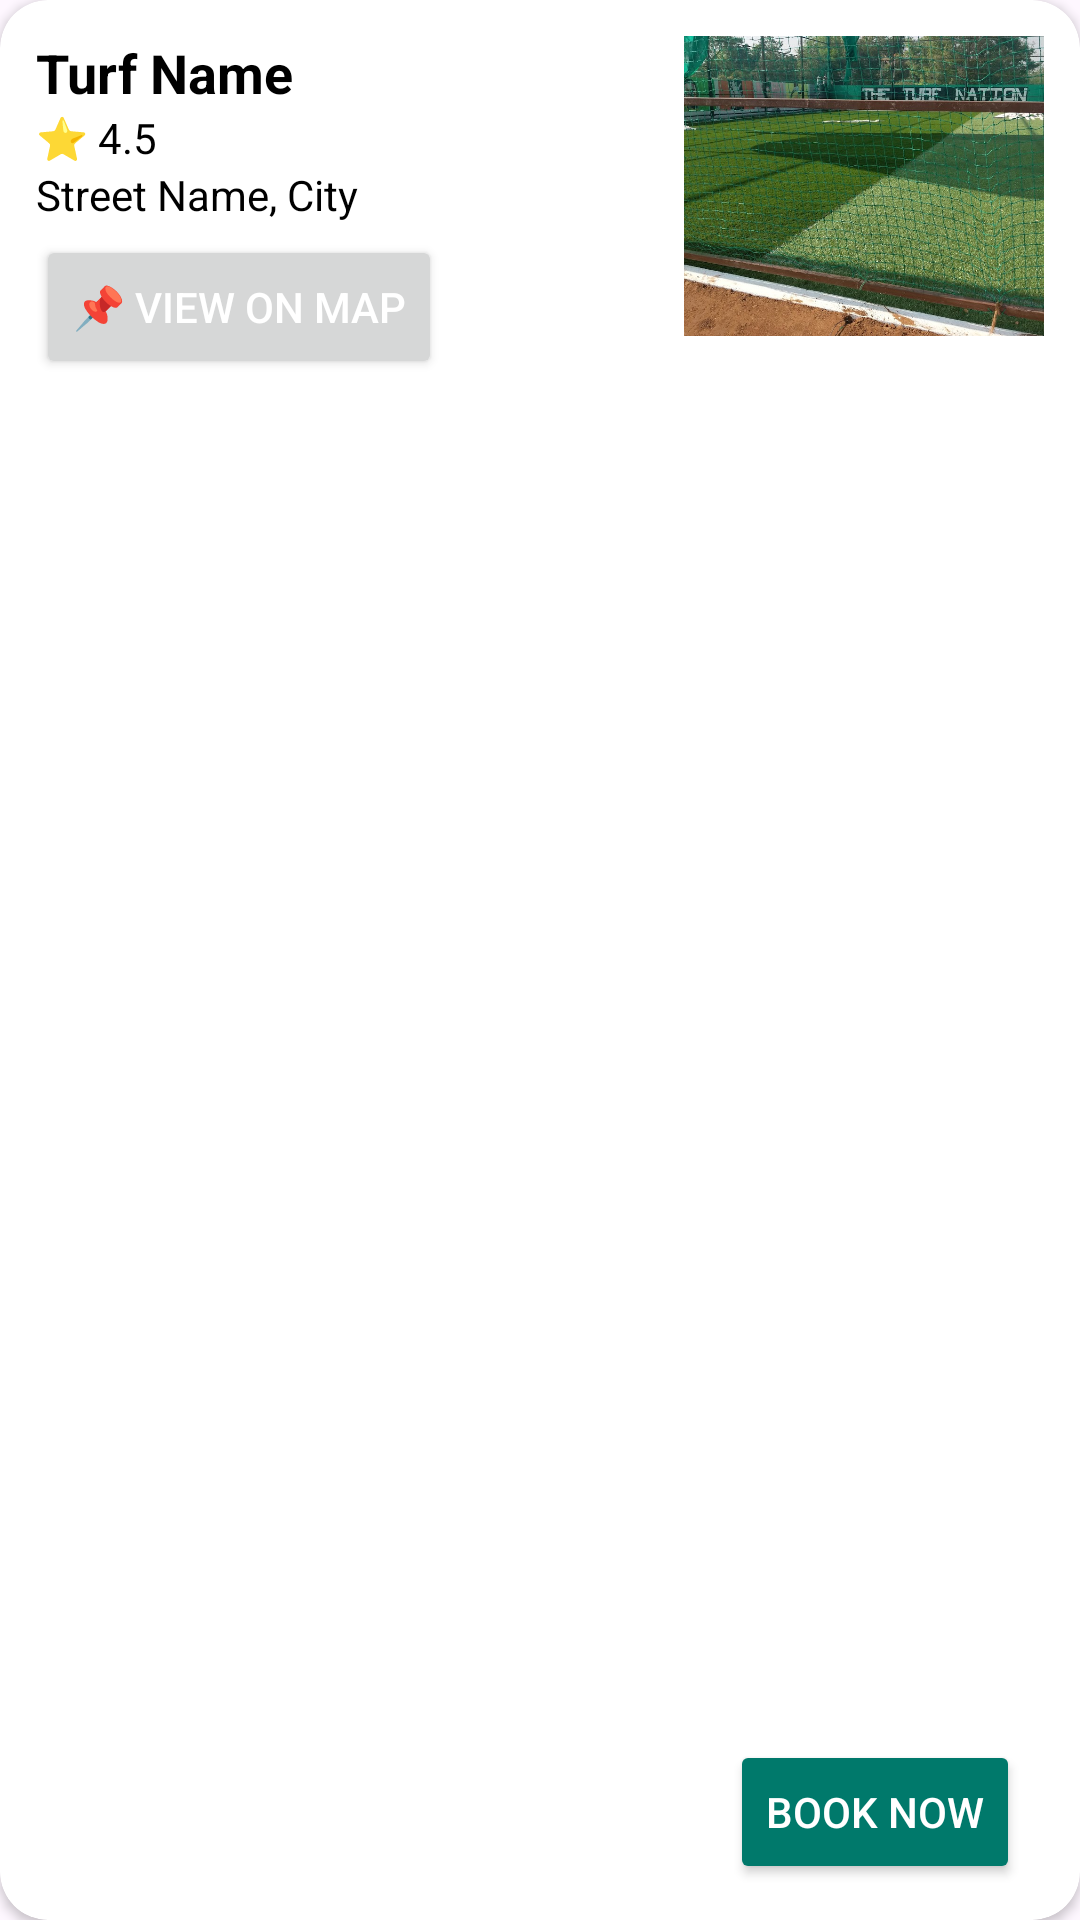

Where icons sit on this 1080px×1920px app screen, as (x1, y1, x2, y2):
turfimg: (684, 36, 1044, 336)
